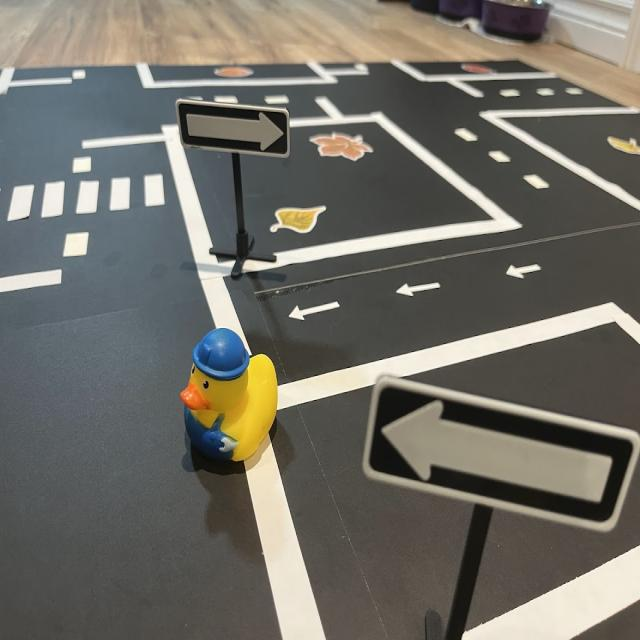duck_specialty: (180, 321, 283, 475)
road_crosswalk: (3, 164, 172, 227)
road_oneway: (508, 257, 548, 289), (288, 301, 346, 323), (396, 277, 447, 300)
sign_oneway_left: (361, 373, 640, 536)
sign_oneway_right: (175, 97, 293, 159)
